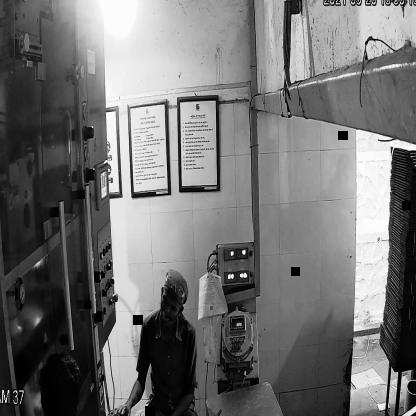no_goggles: (161, 294, 179, 316)
